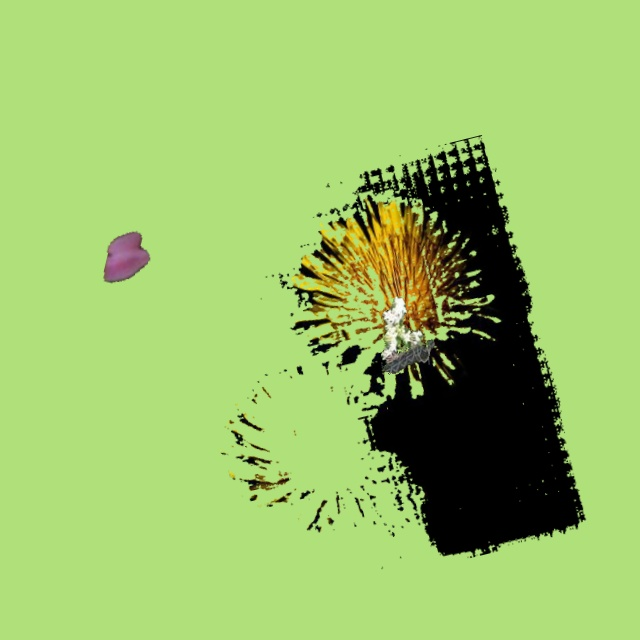cape flower: (104, 232, 149, 282)
dandelion: (221, 135, 585, 557)
jasmine: (381, 296, 434, 374)
